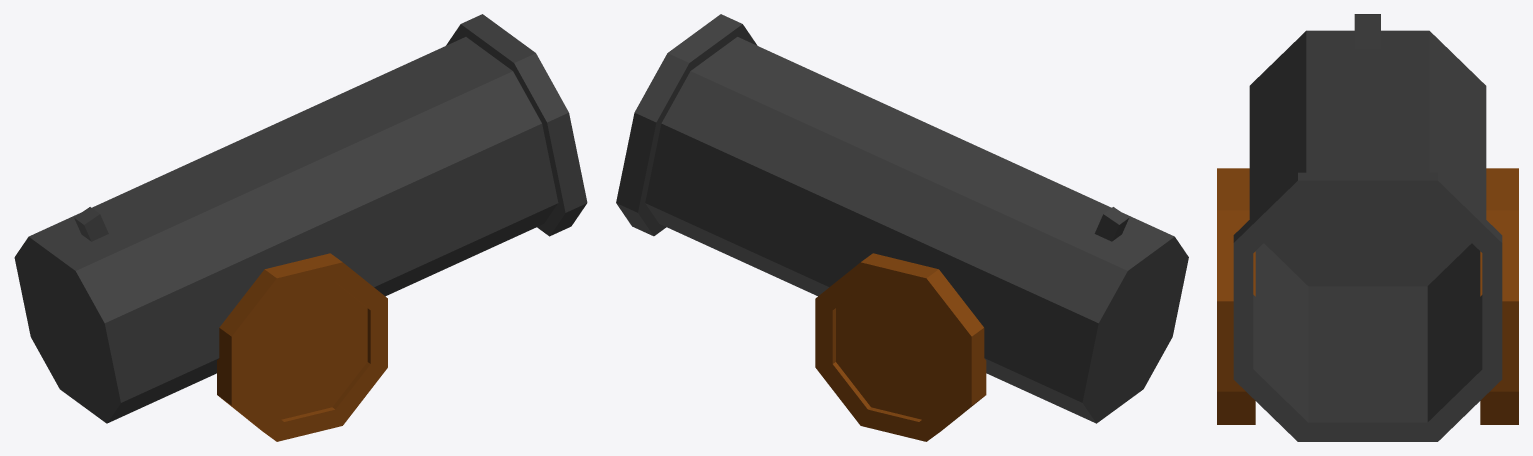
File: kanone.glb
3 views of the same model, side by side, from view 1: azimuth 30°, elevation 25°; view 2: azimuth 150°, elevation 25°; view 3: azimuth 270°, elevation 25° (orthographic). The views are drawn at different scales.
Parts seen in each view (by area): view 1: Cube, rad.001; view 2: Cube, rad.002; view 3: Cube, rad.002, rad.001.
Part boxes in pixels (x1,y1,x2,y2): Cube: (14,14,587,423); rad.001: (217,253,387,441); Cube: (616,14,1188,423); rad.002: (815,253,986,441); Cube: (1233,14,1502,441); rad.002: (1480,168,1518,424); rad.001: (1217,168,1255,424).
Bounding box in the file's own units: 6.3 × 3.61 × 2.55.
